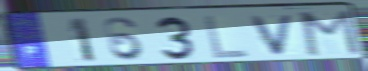1: (67, 16, 98, 65)
3: (154, 14, 195, 62)
6: (103, 16, 145, 63)
L: (202, 13, 252, 60)
M: (299, 9, 363, 58)
V: (248, 12, 297, 57)
